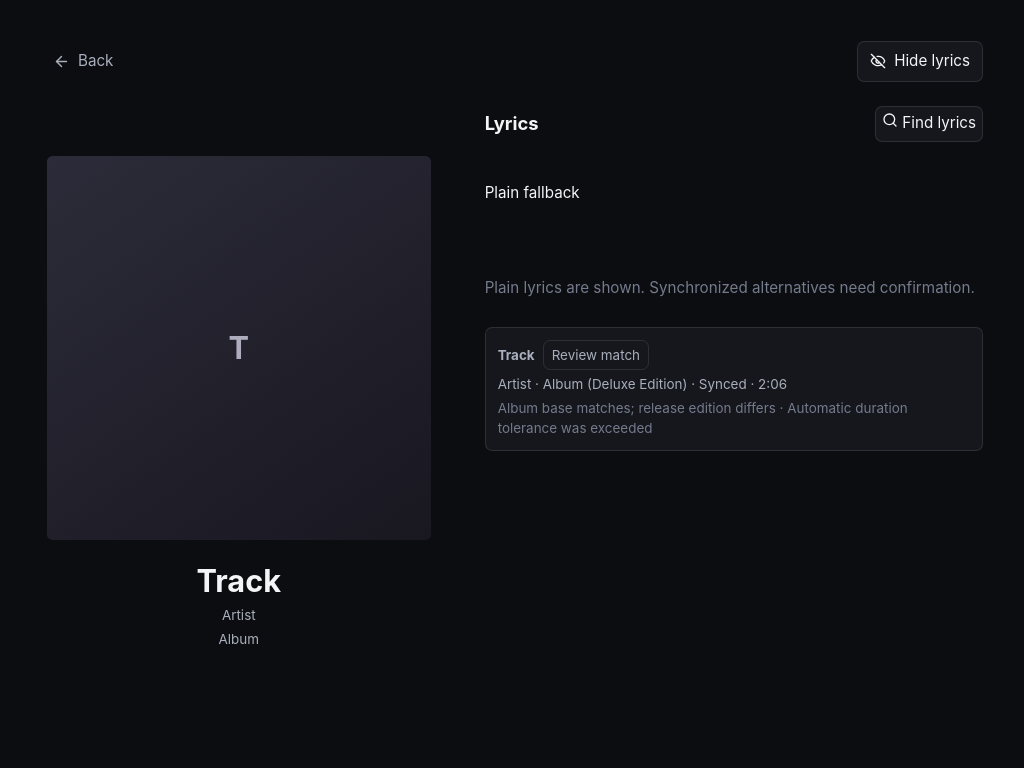
Test: Now Playing lyrics › keeps plain lyrics visible while explaining review-only synchronized matches
Expected: the text "Plain fallback" is shown, x1=485 y1=183 x2=580 y2=202
Expected: the text "Review match" is shown, x1=543 y1=340 x2=649 y2=370
Click the button that starts with "Track". click: coordinates (734, 389)
box: x1=485 y1=326 x2=983 y2=451
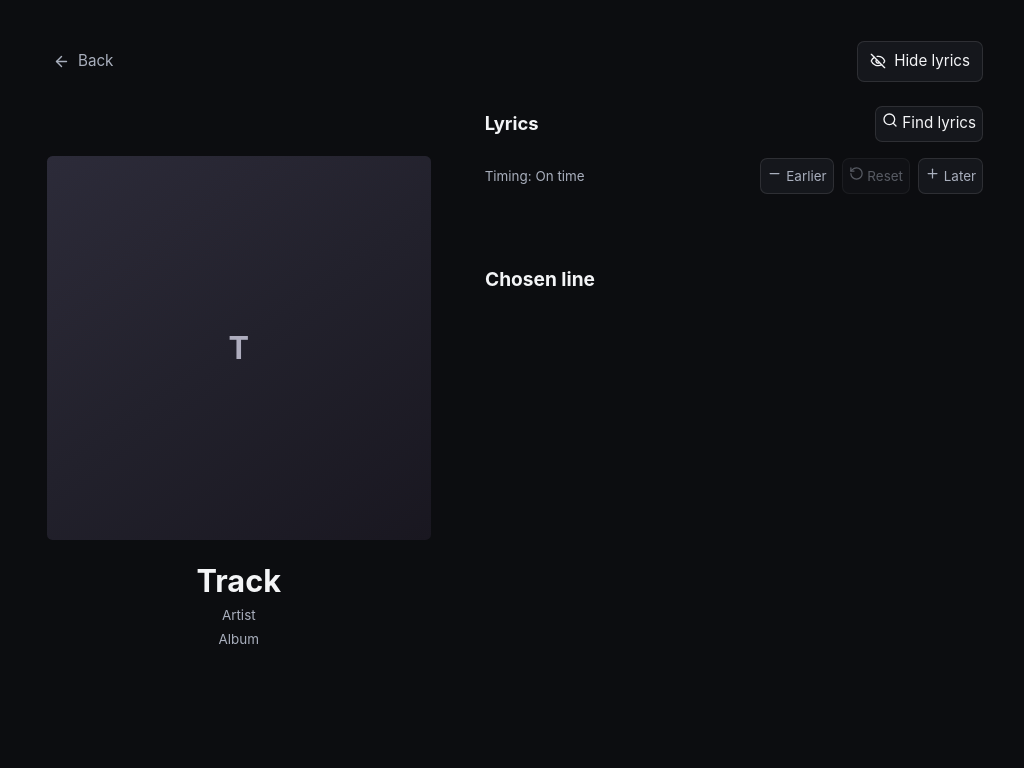
Expected: the button "Chosen line" is shown, x1=485 y1=257 x2=983 y2=302
